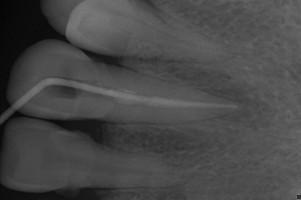Furcation Involvement: (167, 66, 278, 128)
